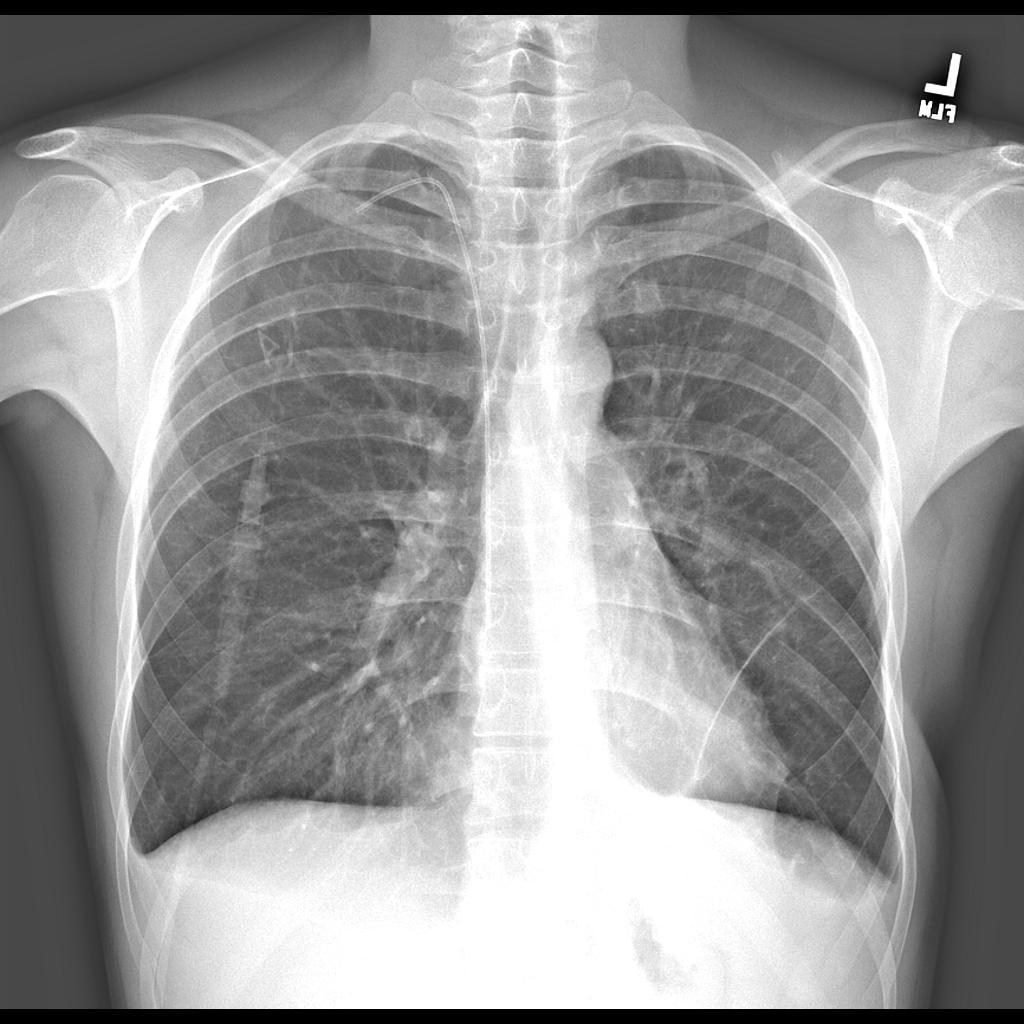Nodule: (715, 295, 751, 322)
